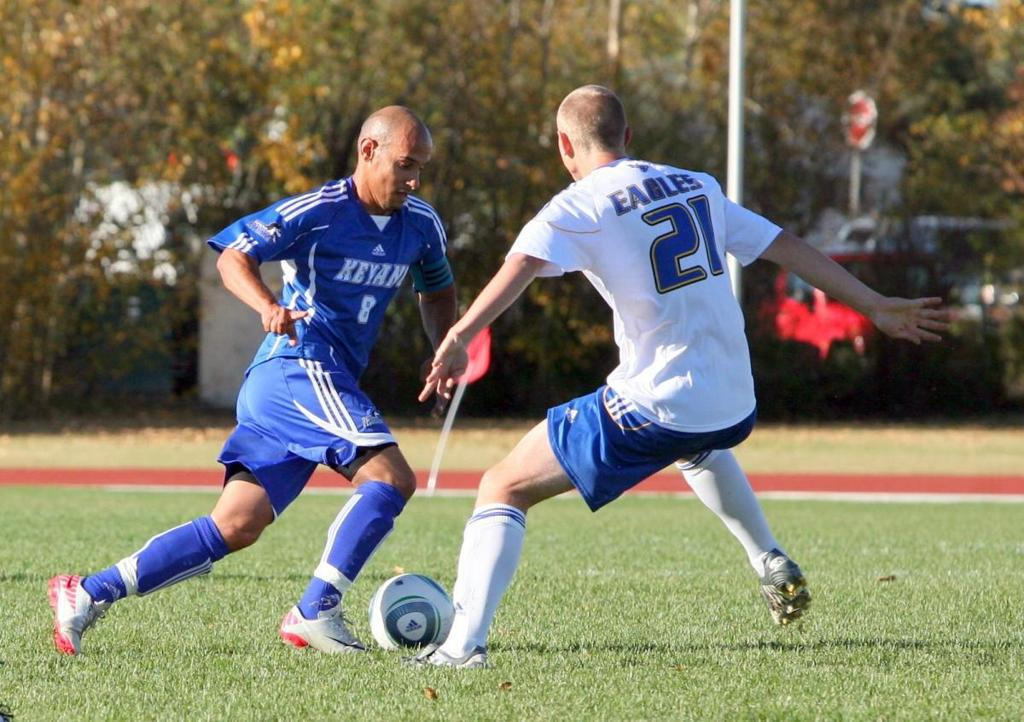face: (371, 131, 429, 209)
